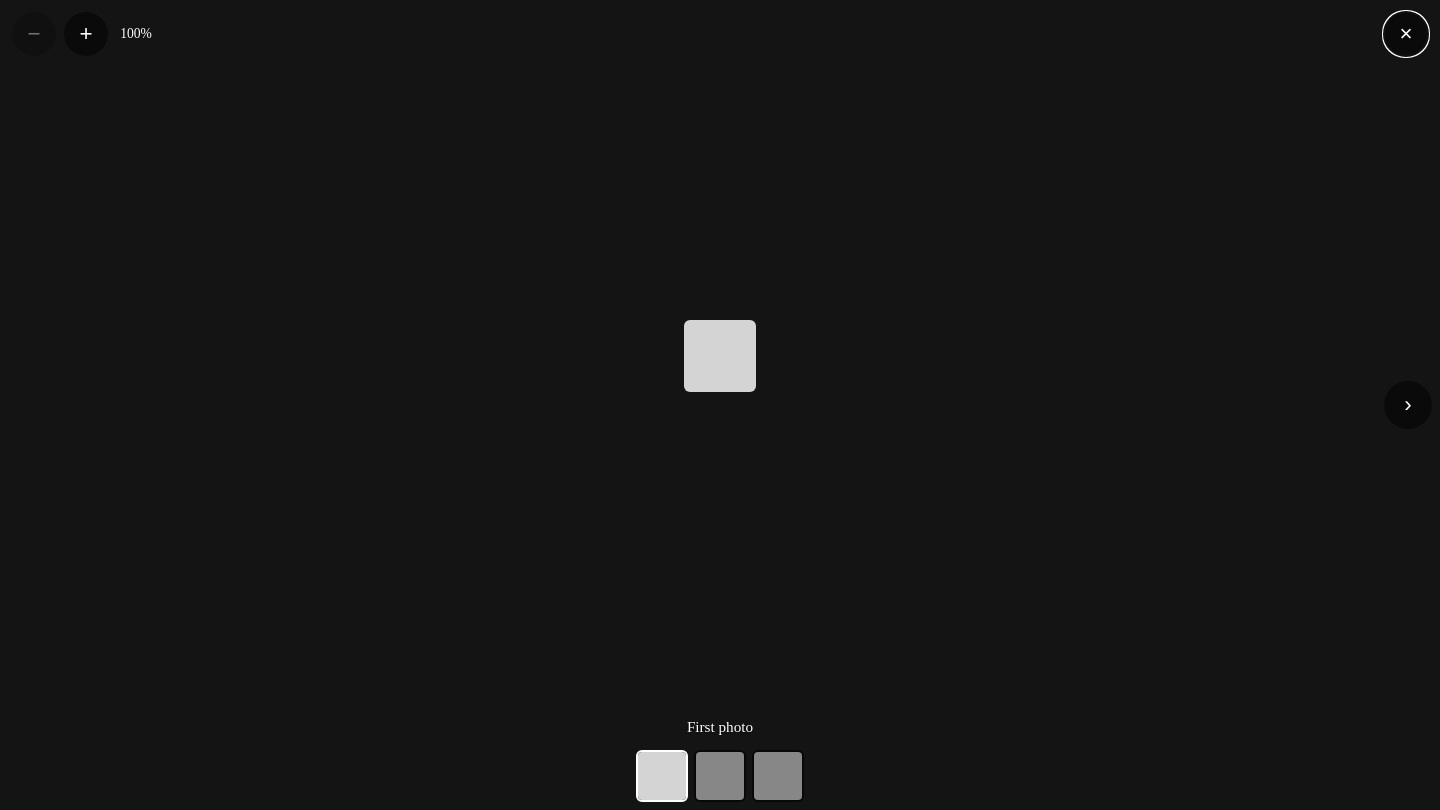
Lightbox component › uncontrolled: Next advances internal index (caption changes)
Expected: the text with test id "lightbox-caption" reads "First photo", [687, 718, 753, 735]
Click the button named "Next photo" at (1408, 405), box [1384, 381, 1432, 429]
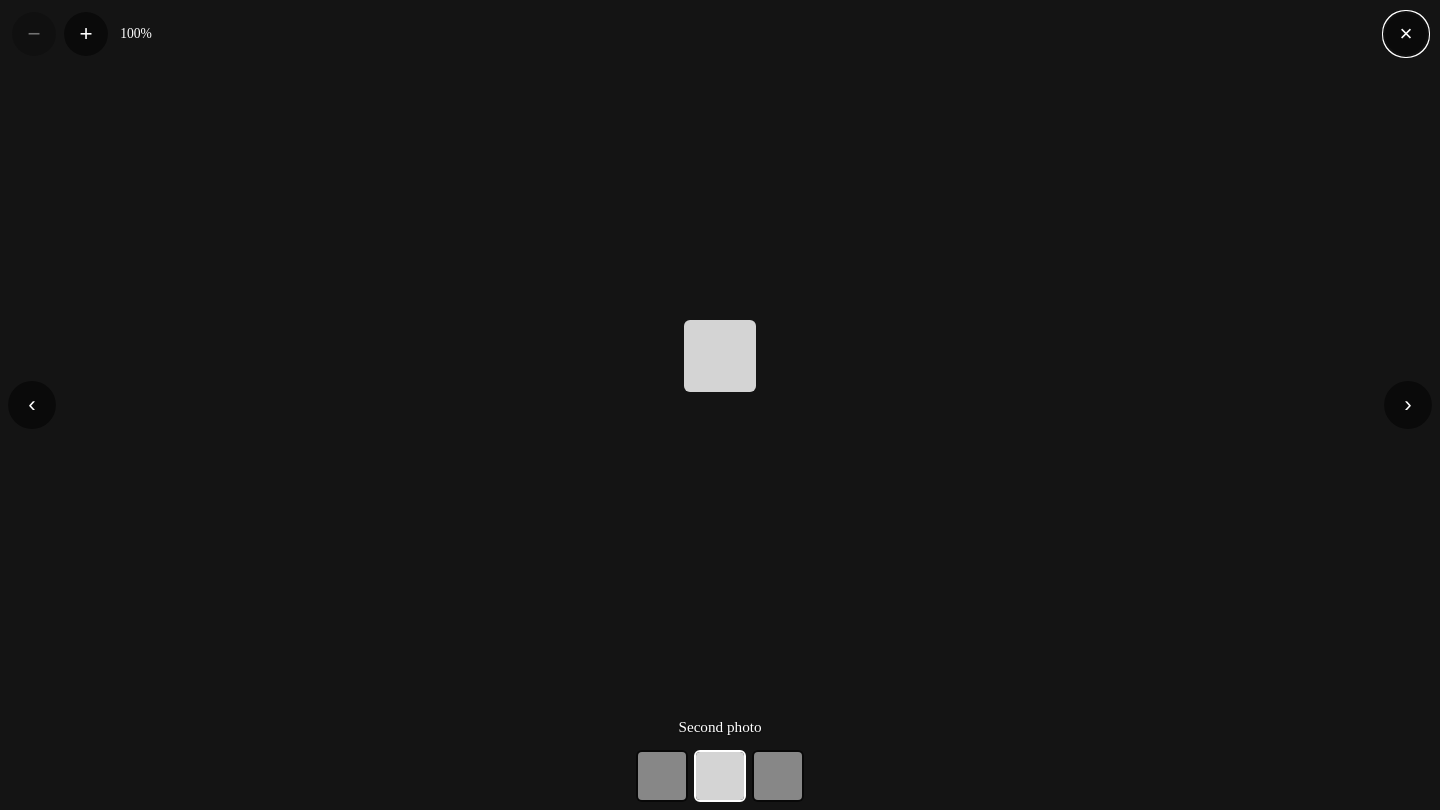
Expected: the text with test id "lightbox-caption" reads "Second photo", [678, 718, 762, 735]
